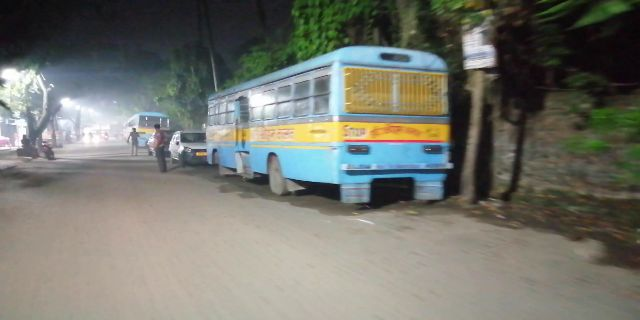Bus: (198, 47, 462, 209)
